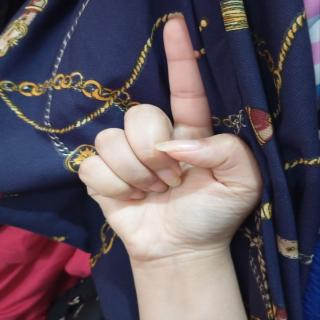BAA: (62, 15, 274, 302)
